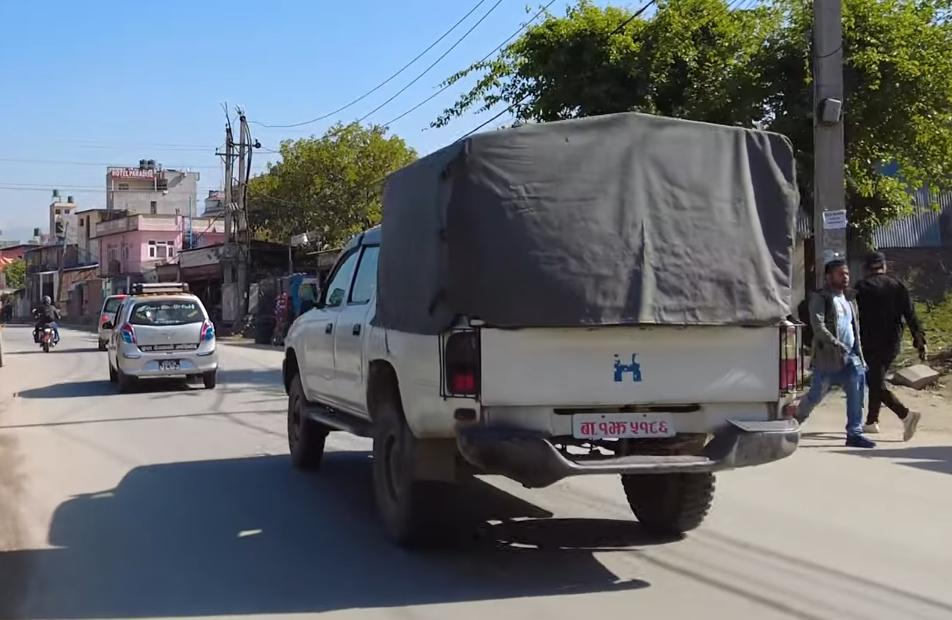bike: (32, 286, 72, 360)
taxi: (103, 286, 230, 395)
transport_vehicle: (274, 99, 812, 565)
